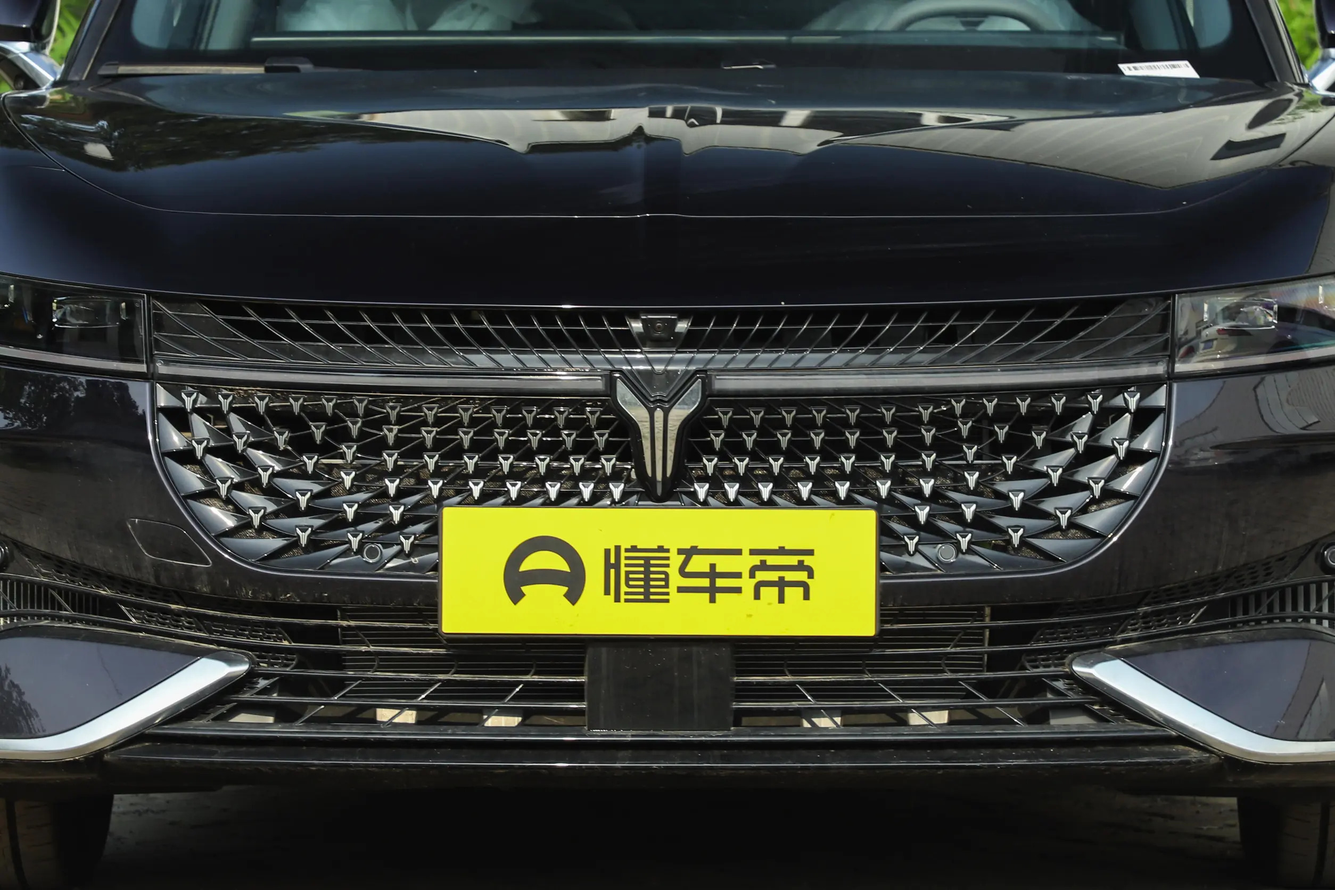VOYAH: (617, 379, 701, 495)
